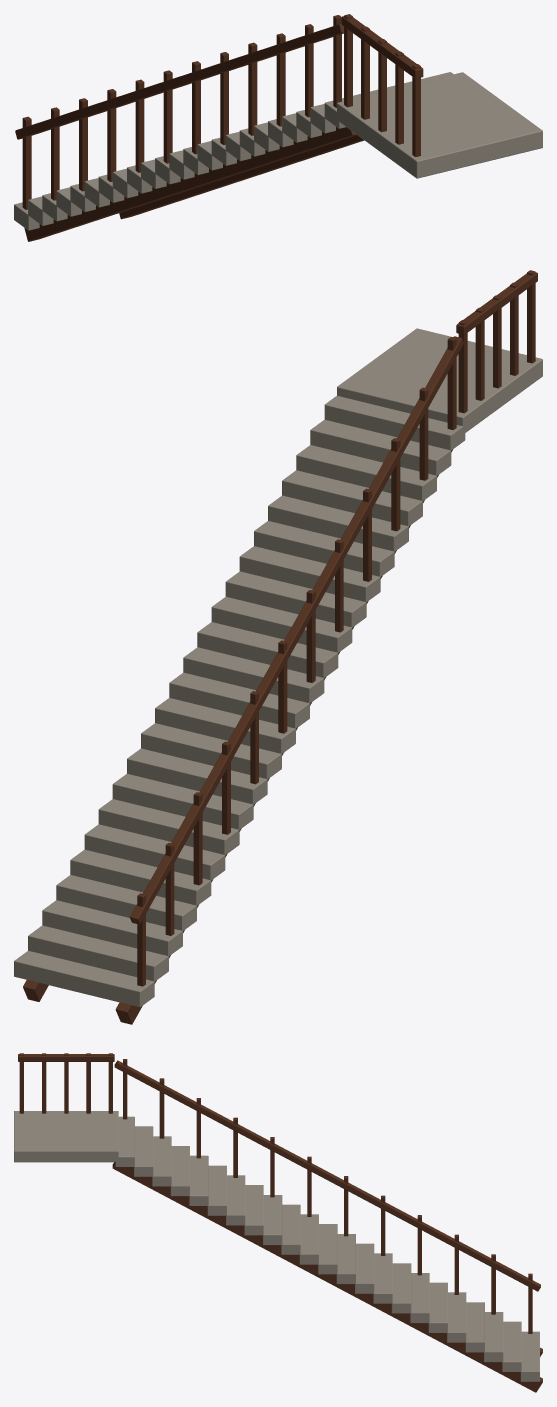
File: EXP_Staircase_ArchitecturalFix.fbx
3 renders of one model, top to bottom at view 1: azimuth 30°, elevation 25°; view 2: azimuth 150°, elevation 25°; view 3: azimuth 270°, elevation 25°, orthographic. The views are drawn at different scales.
Parts seen in each view (by area): view 1: EXP_Staircase_V07Fix; view 2: EXP_Staircase_V07Fix; view 3: EXP_Staircase_V07Fix.
Boxes of the visible parts, <box> form: EXP_Staircase_V07Fix: <box>14,14,542,241</box>; EXP_Staircase_V07Fix: <box>14,270,542,1024</box>; EXP_Staircase_V07Fix: <box>14,1053,542,1392</box>.
Size of the model in its own units: 150 by 833 by 528.
